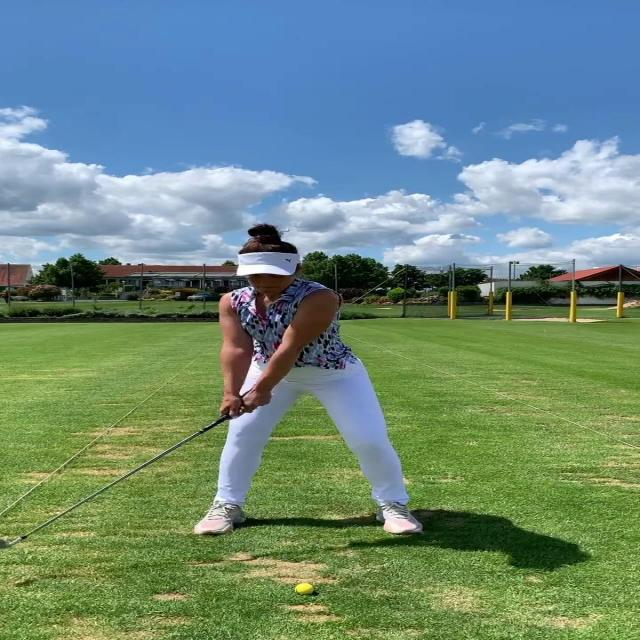golf ball: (295, 583, 314, 594)
golf club-handle: (0, 413, 228, 546)
golf club-head: (1, 535, 13, 547)
